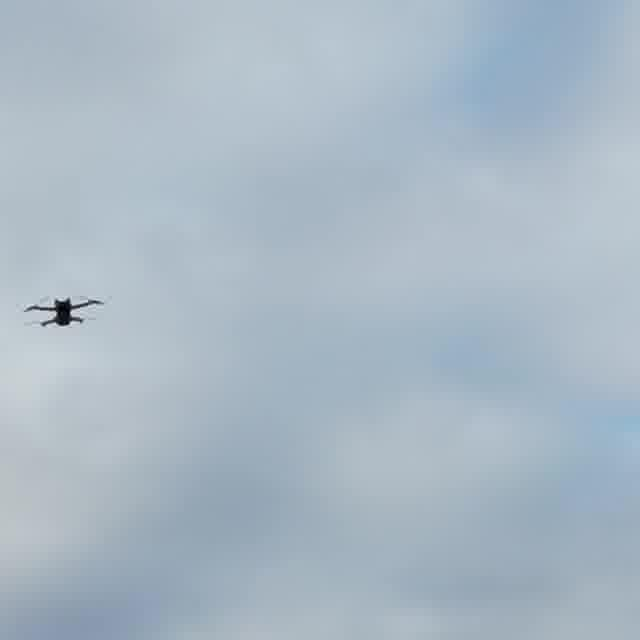Drohne: (25, 297, 103, 326)
